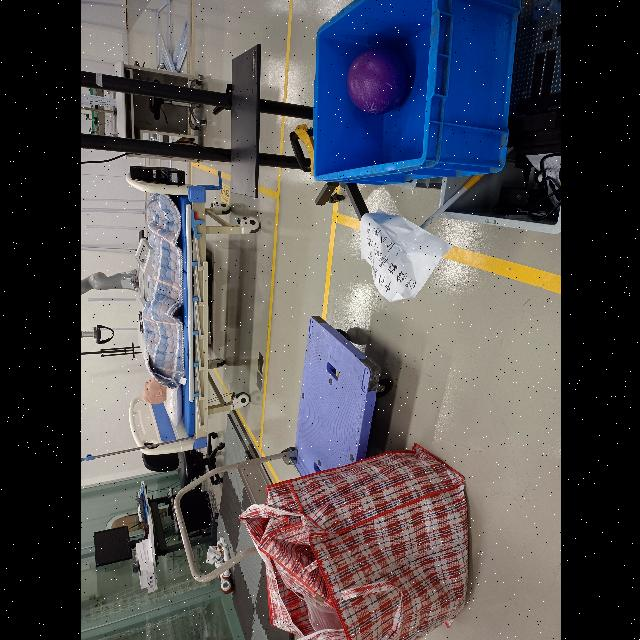P: (346, 48, 408, 114)
